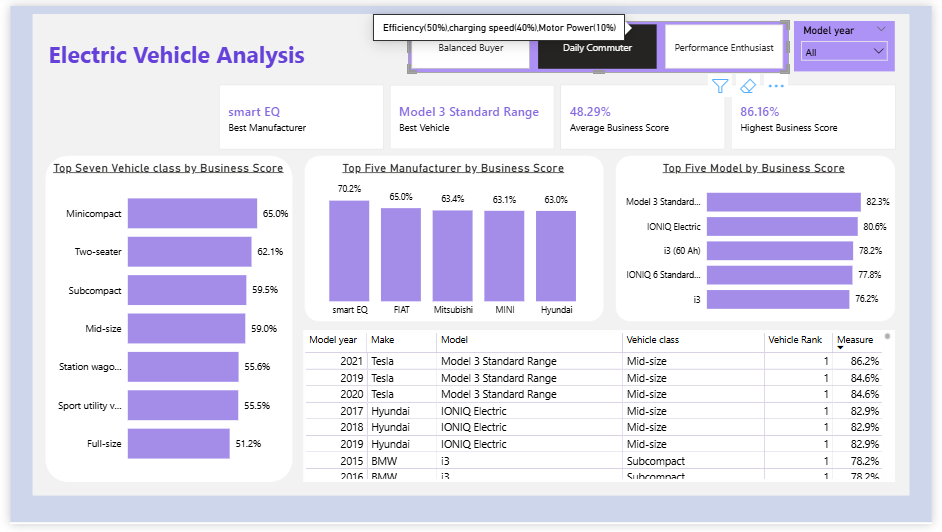

The dashboard page shown, as its layout file describes it:
{"tool":"powerbi","page":{"name":"dashboard","canvas":[1280,720],"ordinal":0},"visuals":[{"type":"advancedSlicerVisual","fields":{"Values":["Persona.Persona"]},"box":[552.9,21.4,528.6,71.4],"z":0},{"type":"slicer","fields":{"Values":["EV Energy Efficiency Dataset (2).Model year"]},"box":[1088.6,21.4,140,70],"z":1000},{"type":"cardVisual","fields":{"Data":["Persona.Best Manufacturer","Persona.Best Vehicle","Persona.Average Business Score","Persona.Highest Business Score"]},"box":[265,103.7,992.2,100.8],"z":3000},{"type":"barChart","title":"Top Seven Vehicle class by Business Score","fields":{"Category":["EV Energy Efficiency Dataset (2).Vehicle class"],"Y":["Persona.Measure"]},"box":[49,214.6,342.7,442.1],"z":4000},{"type":"lineStackedColumnComboChart","title":"Top Five Manufacturer by Business Score","fields":{"Category":["EV Energy Efficiency Dataset (2).Make"],"Y":["Persona.Measure"]},"box":[409.5,214.6,412,226.3],"z":5000},{"type":"tableEx","fields":{"Values":["EV Energy Efficiency Dataset (2).Model year","EV Energy Efficiency Dataset (2).Make","EV Energy Efficiency Dataset (2).Model","EV Energy Efficiency Dataset (2).Vehicle class","Persona.Vehicle Rank","Persona.Measure"]},"box":[404.6,449.3,823.7,211.7],"z":6000},{"type":"barChart","title":"Top Five Model by Business Score","fields":{"Y":["Persona.Measure"],"Category":["EV Energy Efficiency Dataset (2).Model"]},"box":[839.3,214.5,388.5,226.1],"z":7000},{"type":"textbox","box":[48.3,21.7,393.3,74],"z":8000}]}

Visuals, with their boxes in screenshot pixels (x1, y1, x2, y2), scaled from the page's 1280x720 canvas onto the 942x532 screenshot:
advancedSlicerVisual - Persona.Persona: (left=407, top=16, right=796, bottom=69)
slicer - EV Energy Efficiency Dataset (2).Model year: (left=801, top=16, right=904, bottom=68)
cardVisual - Persona.Best Manufacturer x Persona.Best Vehicle: (left=195, top=77, right=925, bottom=151)
"Top Seven Vehicle class by Business Score" barChart: (left=36, top=159, right=288, bottom=485)
"Top Five Manufacturer by Business Score" lineStackedColumnComboChart: (left=301, top=159, right=605, bottom=326)
tableEx - EV Energy Efficiency Dataset (2).Model year x EV Energy Efficiency Dataset (2).Make: (left=298, top=332, right=904, bottom=488)
"Top Five Model by Business Score" barChart: (left=618, top=158, right=904, bottom=326)
textbox: (left=36, top=16, right=325, bottom=71)
